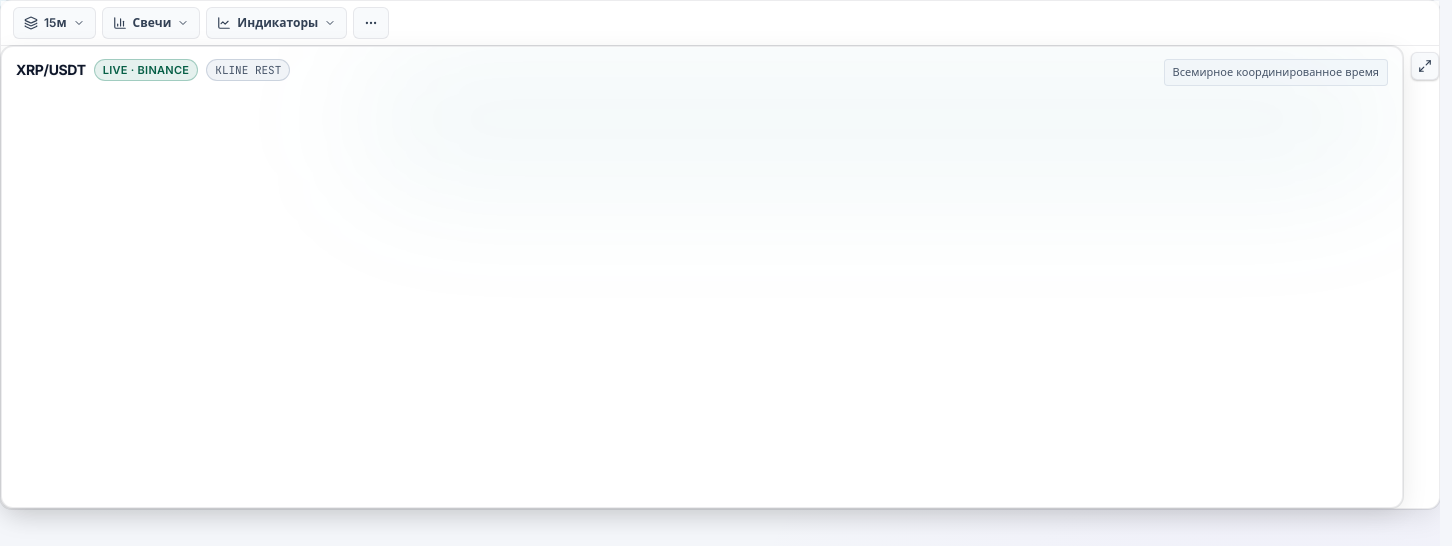
Scenario: ChartTerminal toolbar › renders Russian terminal labels and does not duplicate the old timeframe strip
Expected: the text "Индикаторы" is shown, [237,15,318,31]
Expected: the button named "Развернуть график" is shown, [1411,52,1439,80]
# «Шаблоны» и «Настройки» существуют, но как разделы внутри «Ещё».
Click the button with test id "chart-more-trigger": click(371, 23) [353,7,389,39]
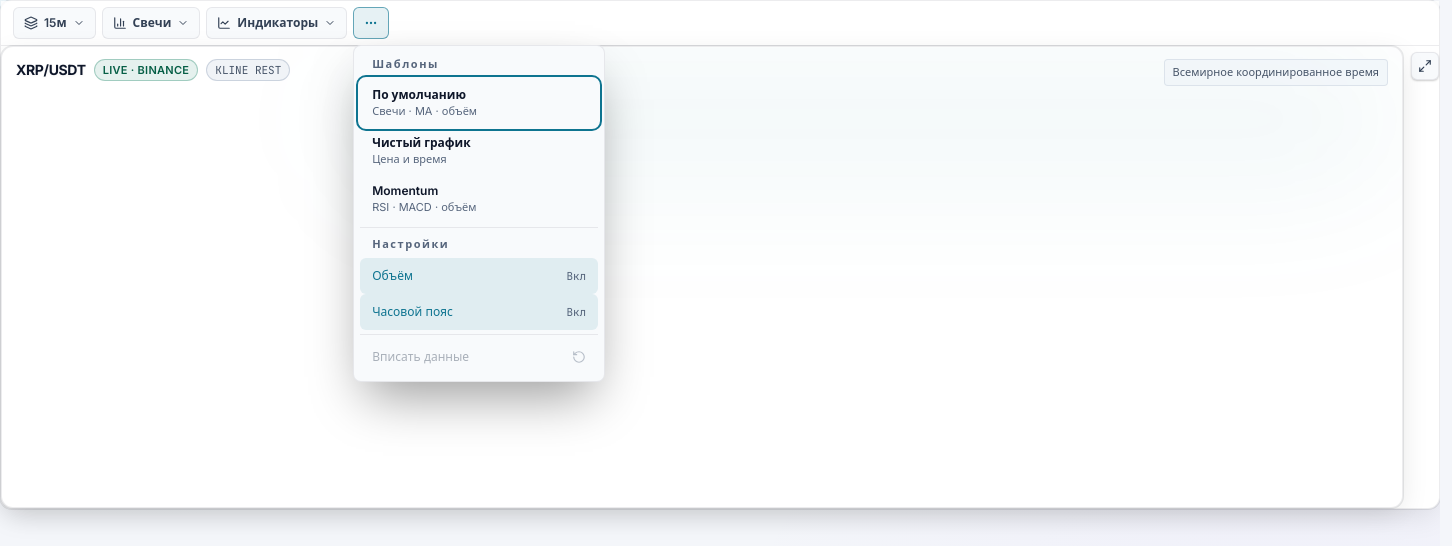
Now the text with test id "chart-more-templates" reads "Шаблоны", box [372,57,439,71]
Now the text with test id "chart-more-settings" reads "Настройки", box [372,236,449,250]
